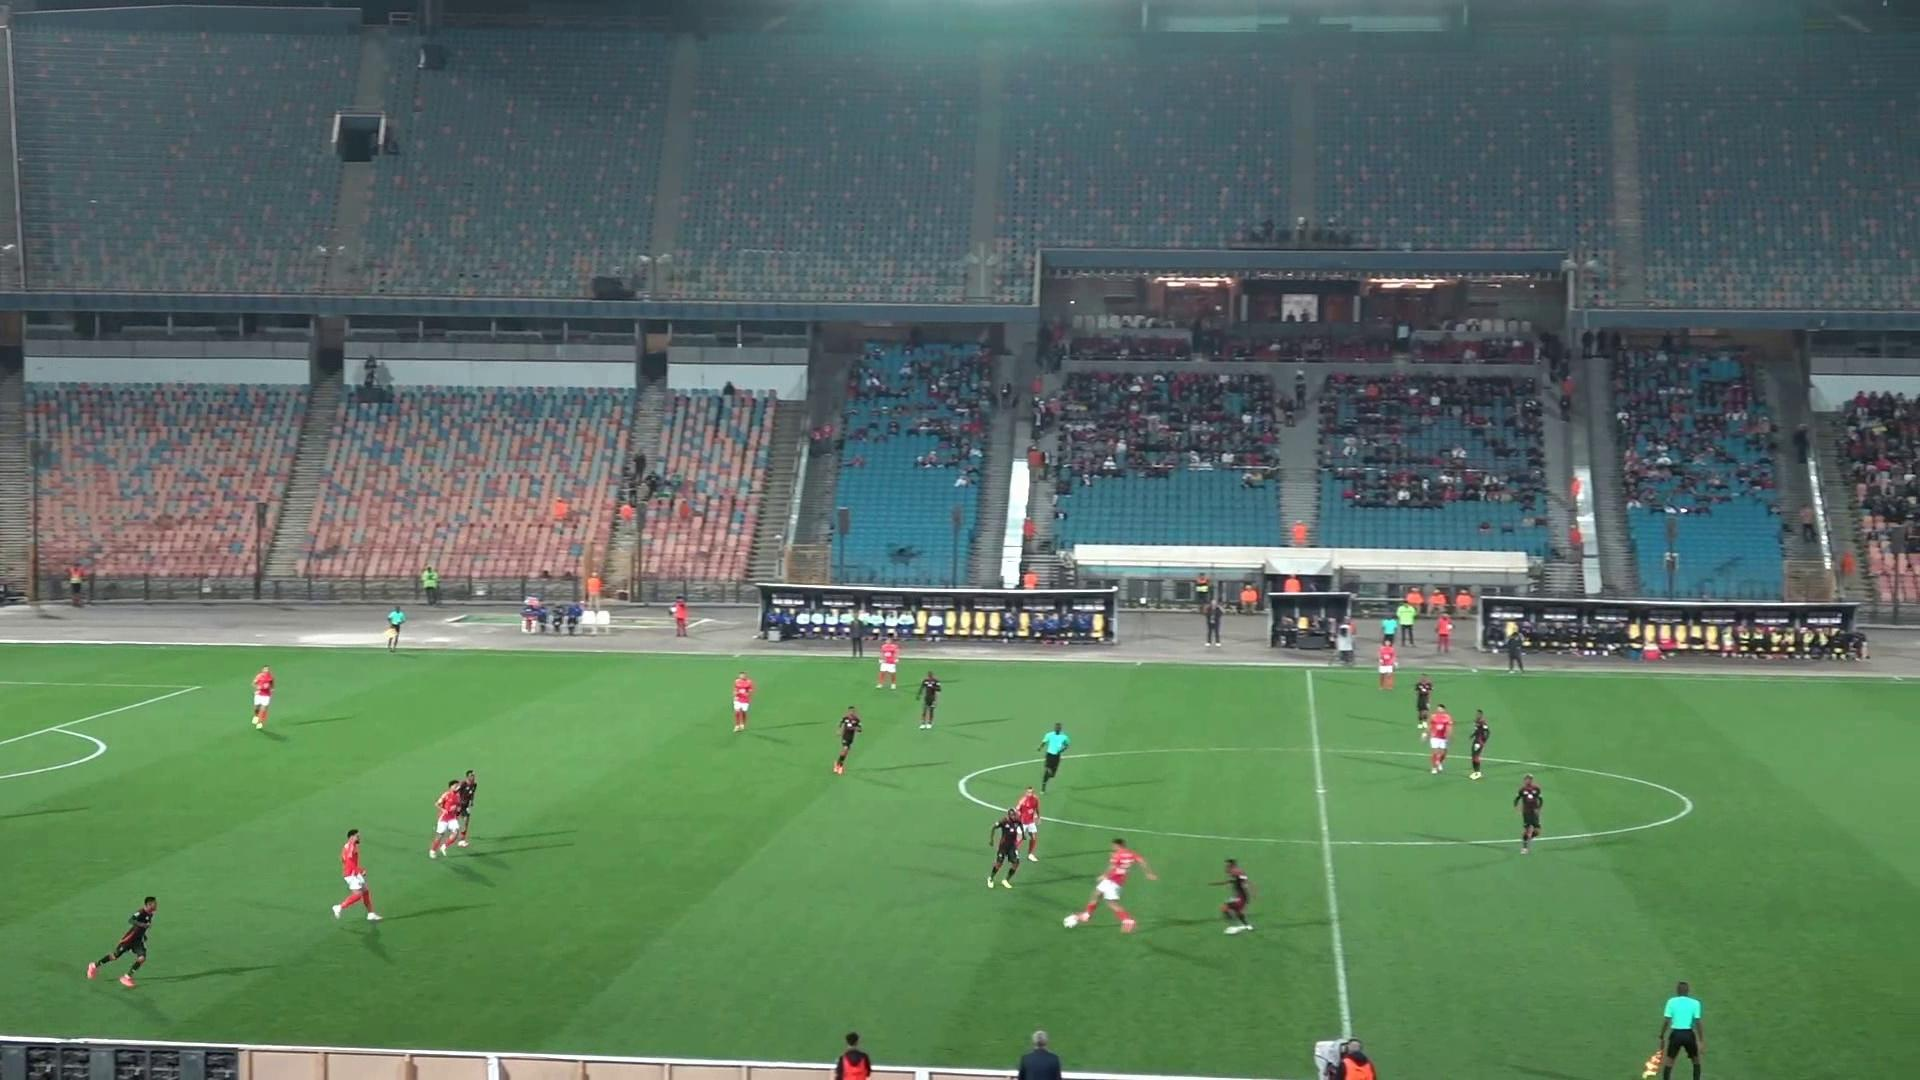Ball: (1062, 913, 1085, 928)
Refree: (1642, 981, 1702, 1079), (1039, 723, 1069, 791), (385, 607, 406, 650)
Team1: (1064, 837, 1155, 934), (332, 829, 381, 920), (431, 770, 476, 857), (1007, 789, 1040, 861), (1423, 704, 1453, 774), (251, 665, 274, 731), (732, 673, 754, 732), (876, 636, 899, 688), (1378, 637, 1396, 690)
Team2: (86, 895, 157, 986), (986, 810, 1025, 887), (1220, 858, 1251, 934), (1513, 774, 1542, 853), (833, 705, 862, 774), (452, 770, 477, 847), (1469, 709, 1490, 778), (918, 673, 942, 731), (1414, 675, 1433, 725)
